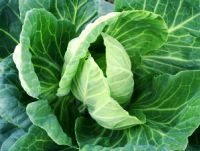cabbage: (74, 49, 133, 103)
